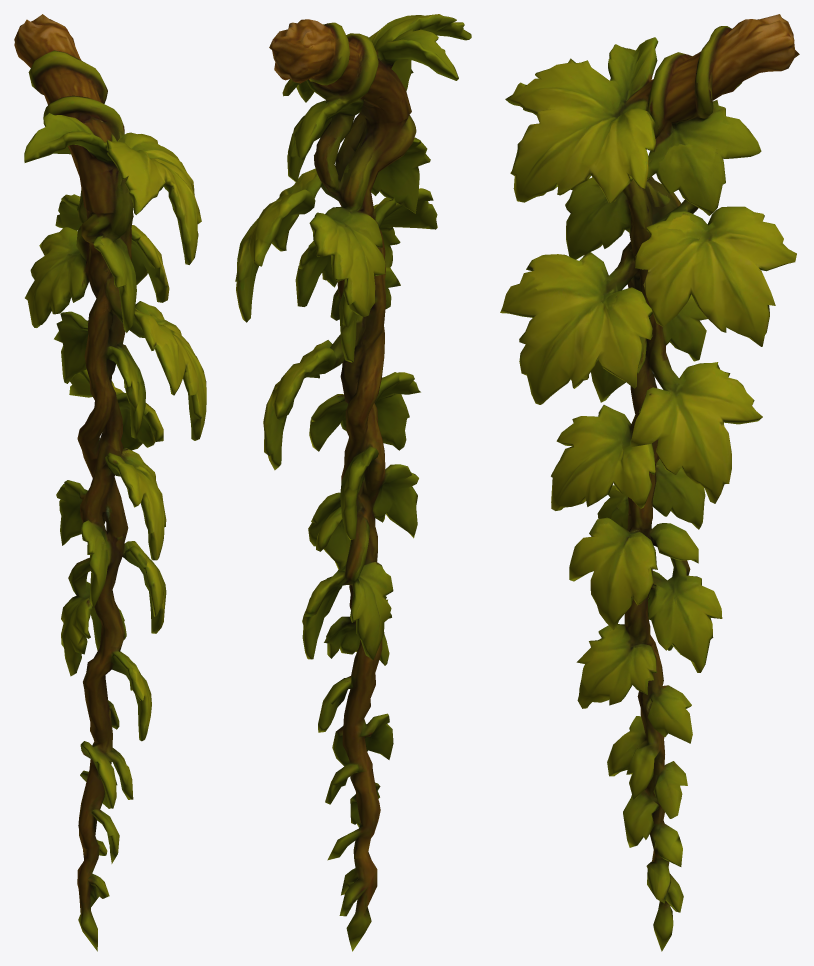
File: vine.glb
The picture shows the model from 3 angles, left to right: view 1: azimuth 30°, elevation 25°; view 2: azimuth 150°, elevation 25°; view 3: azimuth 270°, elevation 25°; orthographic projection. The views are drawn at different scales.
Visible parts, largest first — view 1: tripo_node_186c98c5-4af7-42a5-bcf8-0ec4e4a45811; view 2: tripo_node_186c98c5-4af7-42a5-bcf8-0ec4e4a45811; view 3: tripo_node_186c98c5-4af7-42a5-bcf8-0ec4e4a45811.
Part boxes in pixels (<box>): tripo_node_186c98c5-4af7-42a5-bcf8-0ec4e4a45811: <box>14,14,206,951</box>; tripo_node_186c98c5-4af7-42a5-bcf8-0ec4e4a45811: <box>235,14,471,951</box>; tripo_node_186c98c5-4af7-42a5-bcf8-0ec4e4a45811: <box>500,14,799,951</box>.
Size of the model in its own units: 0.1865 by 1 by 0.2914.
1 material, 1 textured.
